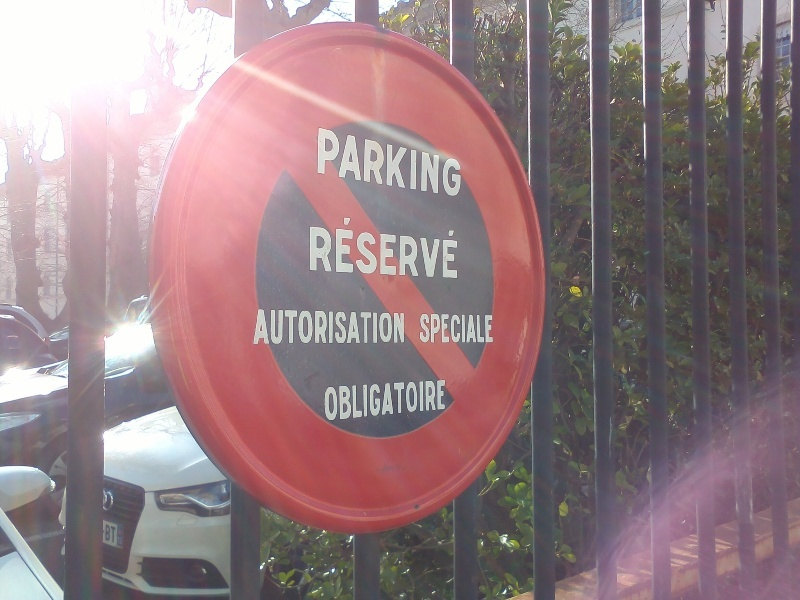text: (321, 127, 336, 199), (337, 127, 352, 199), (353, 127, 368, 199), (369, 127, 384, 199), (385, 127, 400, 199), (401, 127, 416, 199), (417, 127, 432, 199), (433, 127, 448, 199), (449, 127, 464, 199), (321, 215, 336, 281), (337, 215, 352, 281), (353, 215, 368, 281), (369, 215, 384, 281), (385, 215, 400, 281), (401, 215, 416, 281), (417, 215, 432, 281), (433, 215, 448, 281), (310, 215, 320, 281), (449, 215, 459, 281), (337, 380, 352, 423), (353, 380, 368, 423), (369, 380, 384, 423), (385, 380, 400, 423), (401, 380, 416, 423), (417, 380, 432, 423), (433, 380, 448, 423), (323, 380, 336, 423), (257, 309, 272, 346), (273, 309, 288, 346), (289, 309, 304, 346), (305, 309, 320, 346), (321, 309, 336, 346), (337, 309, 352, 346), (353, 309, 368, 346), (369, 309, 384, 346), (385, 309, 400, 346), (433, 312, 448, 344), (449, 312, 464, 344), (465, 312, 480, 344), (418, 312, 432, 344), (481, 312, 494, 344), (401, 309, 408, 346), (105, 522, 112, 545), (318, 127, 320, 199), (117, 537, 128, 547), (113, 522, 117, 545), (254, 309, 256, 346)
